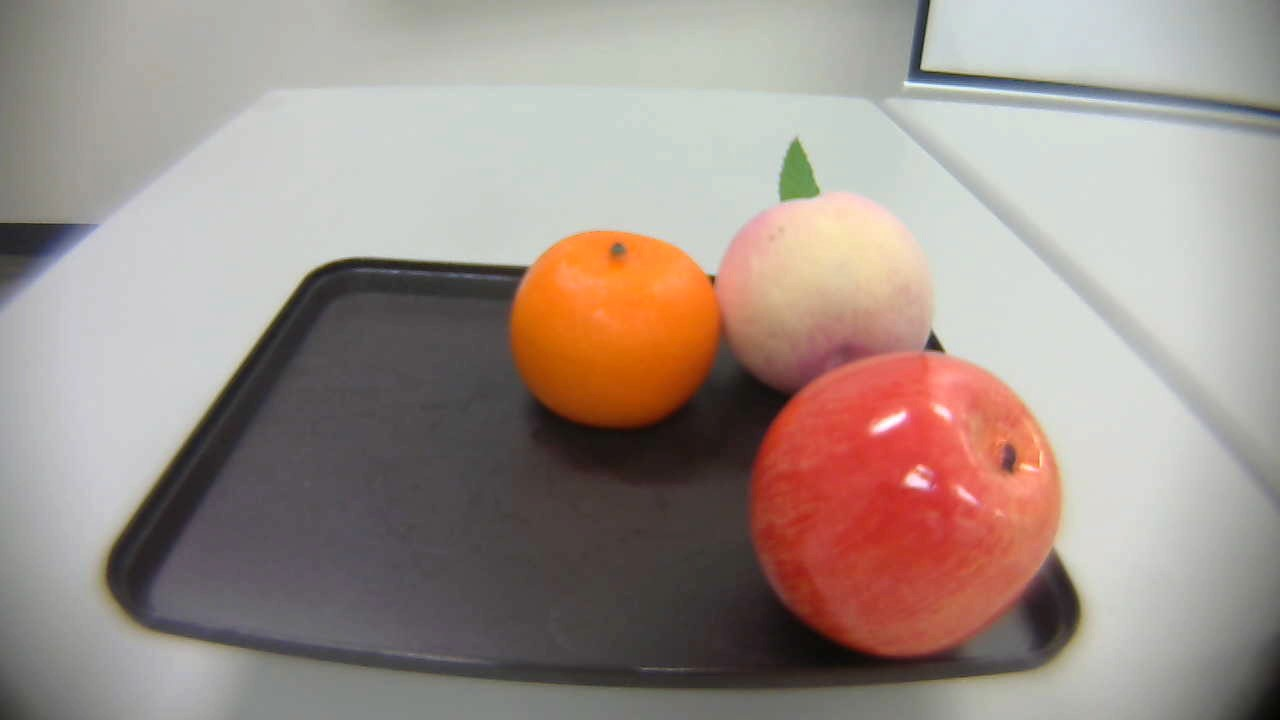orange: (509, 227, 728, 435)
peach: (707, 142, 949, 397)
red apple: (741, 351, 1073, 656)
